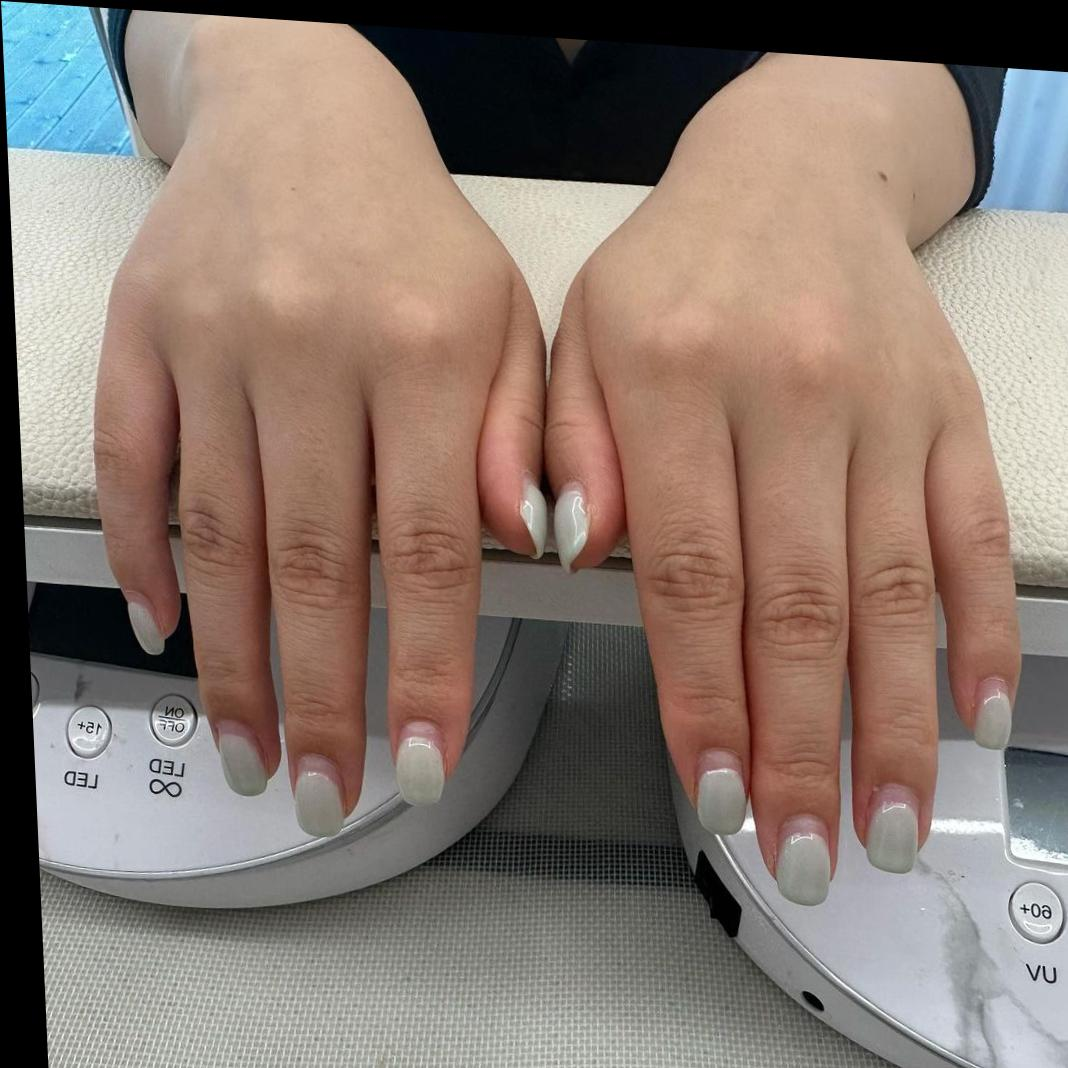nail: (773, 811, 834, 906), (862, 780, 922, 874), (393, 715, 448, 808), (291, 749, 347, 838), (215, 716, 269, 796), (551, 478, 594, 573), (694, 763, 749, 836), (970, 672, 1014, 750), (518, 477, 550, 559), (126, 594, 166, 655)
